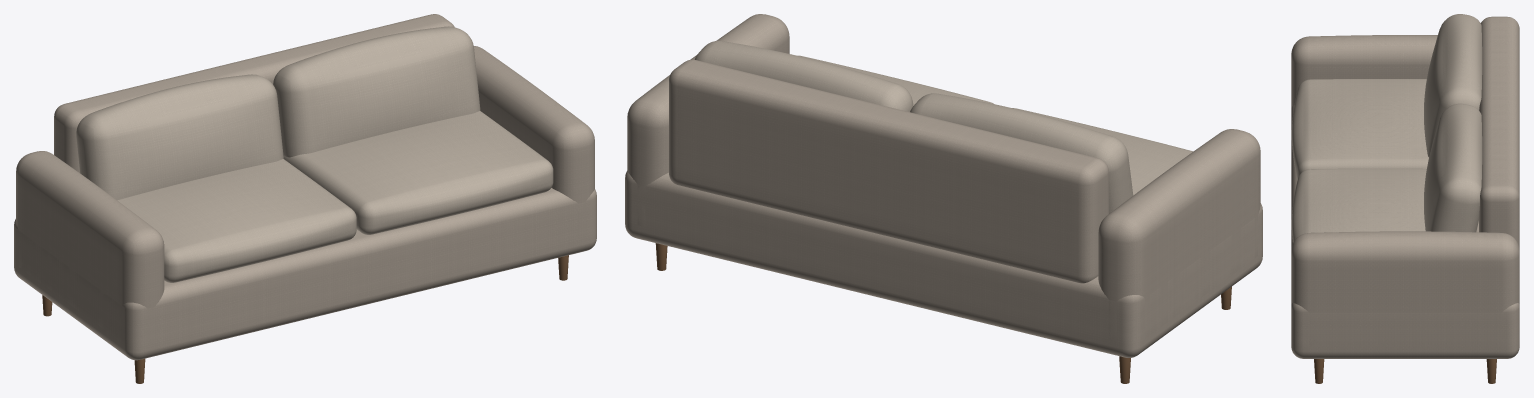
File: demo-sofa.glb
The picture shows the model from 3 angles, left to right: view 1: azimuth 30°, elevation 25°; view 2: azimuth 150°, elevation 25°; view 3: azimuth 270°, elevation 25°; orthographic projection. The views are drawn at different scales.
Parts seen in each view (by area): view 1: Cushions, Frame, Legs; view 2: Frame, Cushions, Legs; view 3: Frame, Cushions, Legs.
Boxes of the visible parts, <box> form: Cushions: <box>76,26,553,282</box>; Frame: <box>14,14,596,360</box>; Legs: <box>42,255,568,383</box>; Frame: <box>625,14,1262,357</box>; Cushions: <box>694,40,1193,213</box>; Legs: <box>655,243,1231,383</box>; Frame: <box>1291,16,1519,358</box>; Cushions: <box>1291,14,1482,242</box>; Legs: <box>1314,359,1496,383</box>.
Bounding box in the file's own units: 2 × 0.8473 × 0.9.
Materials: 3 (2 with a texture image).
